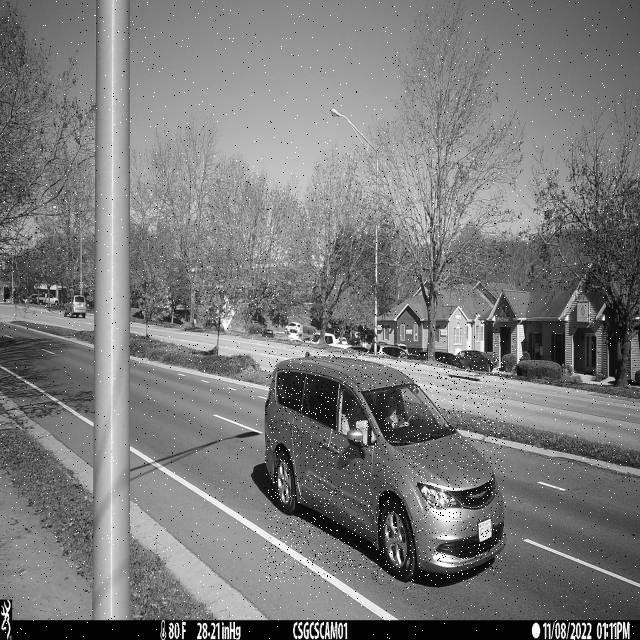Van: (265, 351, 506, 582)
